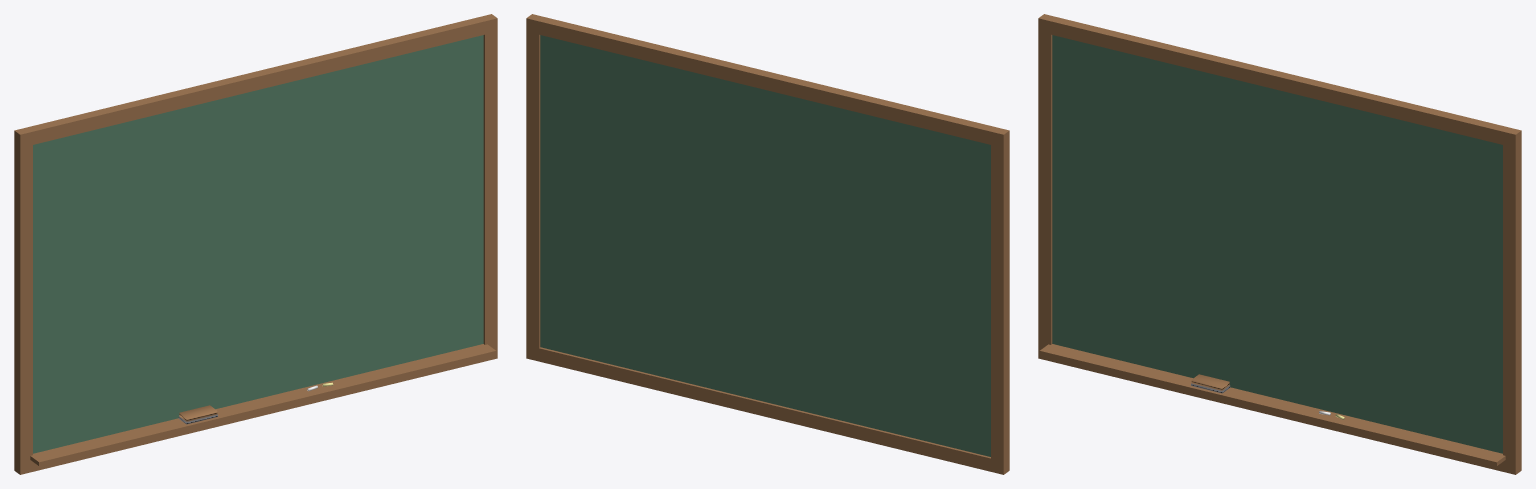
File: tableau-craie.glb
The picture shows the model from 3 angles, left to right: view 1: azimuth 30°, elevation 25°; view 2: azimuth 150°, elevation 25°; view 3: azimuth 330°, elevation 25°; orthographic projection.
Visible parts, largest first — view 1: Board_Green_Slate, Board_Frame_Top, Board_Chalk_Tray, Board_Frame_L, Board_Frame_R, Board_Frame_Bottom; view 2: Board_Green_Slate, Board_Frame_Top, Board_Frame_Bottom, Board_Frame_L, Board_Frame_R; view 3: Board_Green_Slate, Board_Frame_Top, Board_Chalk_Tray, Board_Frame_R, Board_Frame_L, Board_Frame_Bottom.
Boxes of the visible parts, left/top/right/bottom form: Board_Green_Slate: left=33, top=35, right=483, bottom=453; Board_Frame_Top: left=14, top=14, right=497, bottom=146; Board_Chalk_Tray: left=30, top=344, right=496, bottom=466; Board_Frame_L: left=14, top=133, right=32, bottom=472; Board_Frame_R: left=483, top=21, right=497, bottom=358; Board_Frame_Bottom: left=14, top=346, right=497, bottom=474; Board_Green_Slate: left=540, top=35, right=990, bottom=456; Board_Frame_Top: left=526, top=14, right=1009, bottom=146; Board_Frame_Bottom: left=526, top=345, right=1009, bottom=474; Board_Frame_L: left=991, top=134, right=1009, bottom=472; Board_Frame_R: left=526, top=21, right=540, bottom=358; Board_Green_Slate: left=1052, top=35, right=1502, bottom=453; Board_Frame_Top: left=1038, top=14, right=1521, bottom=147; Board_Chalk_Tray: left=1039, top=344, right=1505, bottom=466; Board_Frame_R: left=1503, top=133, right=1521, bottom=472; Board_Frame_L: left=1038, top=21, right=1052, bottom=358; Board_Frame_Bottom: left=1038, top=347, right=1521, bottom=474.
Size of the model in its own units: 1.88 by 1.28 by 0.1.
